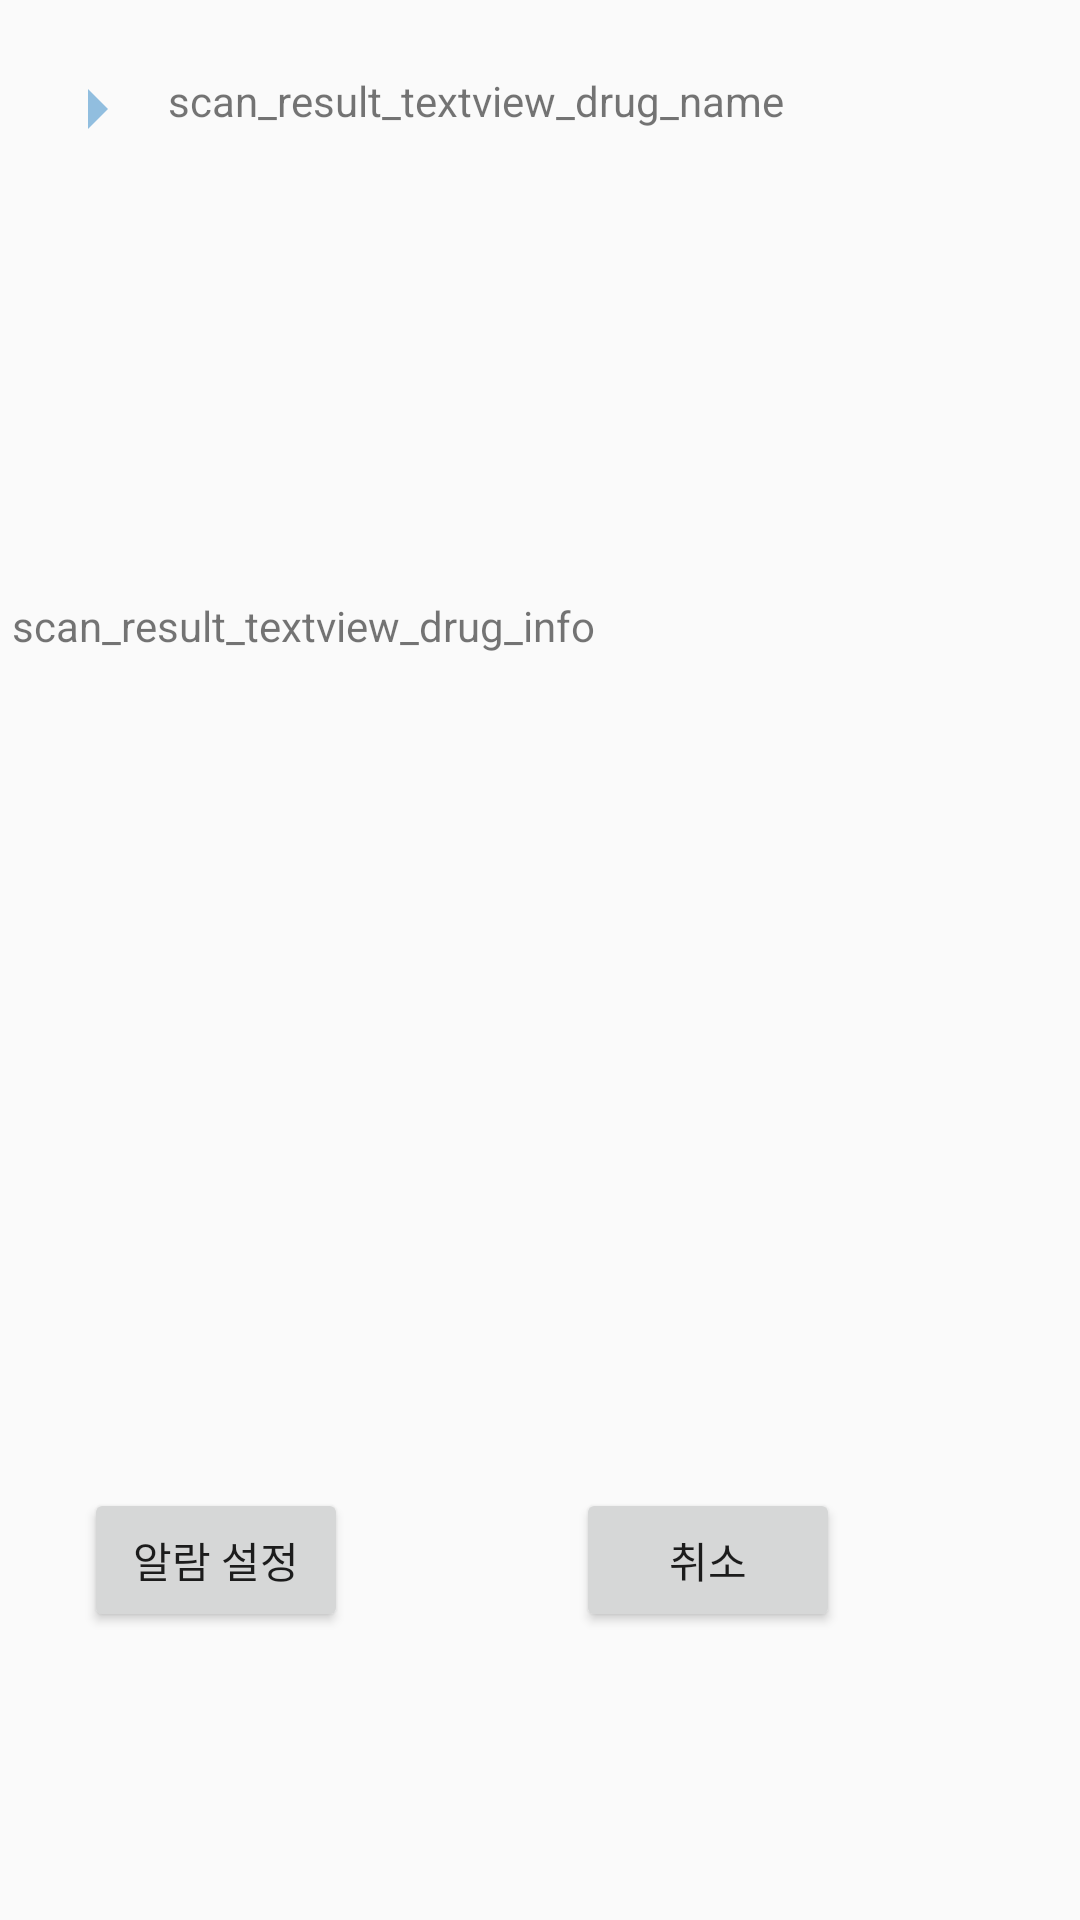

Where icons sit on this 1080 x 1920 app screen, as rect(x1, y1, x2, y2):
arrow right: rect(88, 89, 108, 129)
